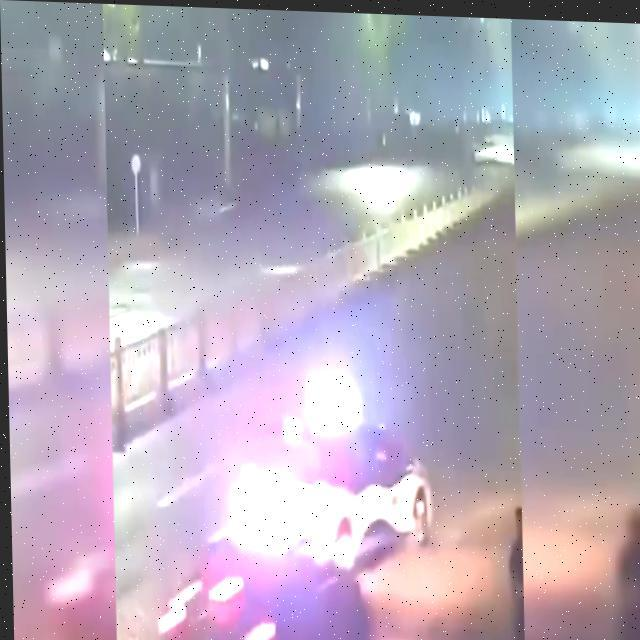multiple_accident: (159, 397, 466, 640)
